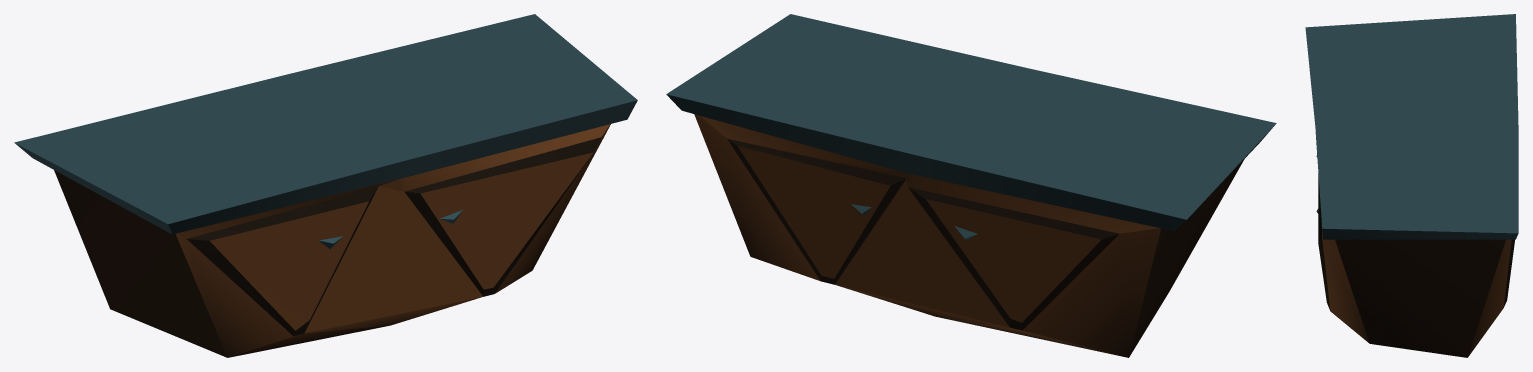
File: c_furniture_workbench_aa.fbx
The picture shows the model from 3 angles, left to right: view 1: azimuth 30°, elevation 25°; view 2: azimuth 150°, elevation 25°; view 3: azimuth 270°, elevation 25°; orthographic projection. The views are drawn at different scales.
Parts seen in each view (by area): view 1: c_furniture_workbench_aa; view 2: c_furniture_workbench_aa; view 3: c_furniture_workbench_aa.
Part boxes in pixels (x1,y1,x2,y2): c_furniture_workbench_aa: (14, 14, 637, 357); c_furniture_workbench_aa: (666, 14, 1276, 357); c_furniture_workbench_aa: (1305, 14, 1518, 357).
Size of the model in its own units: 3.42 by 1.07 by 1.4.
